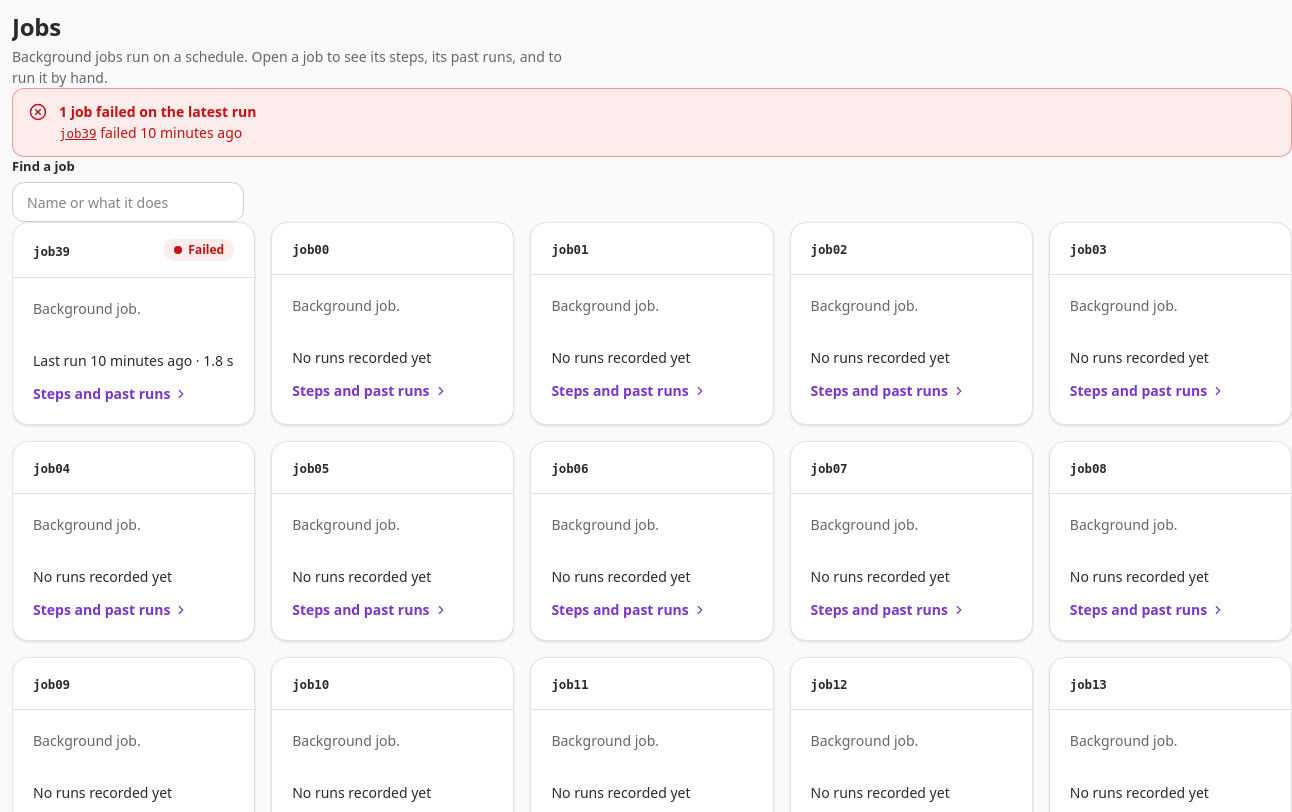
it: large values › lets you find one job among many, with failing ones first
The width and height of the screenshot is (1292, 812).
Step 1. Type "job07" into the field labelled "Find a job" → (128, 202), box [12,182,244,222]
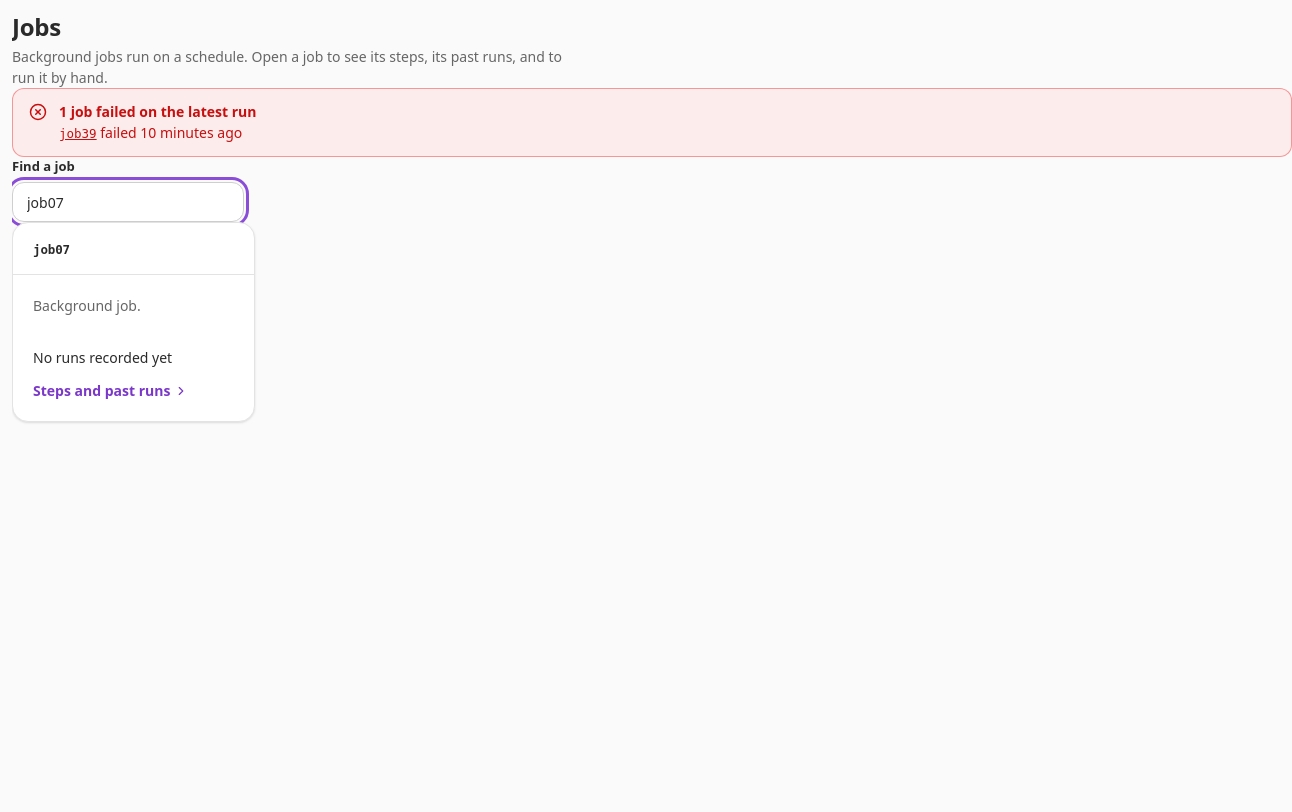
Now the number of buttons named "Open job" is 1, box [33,380,188,401]
